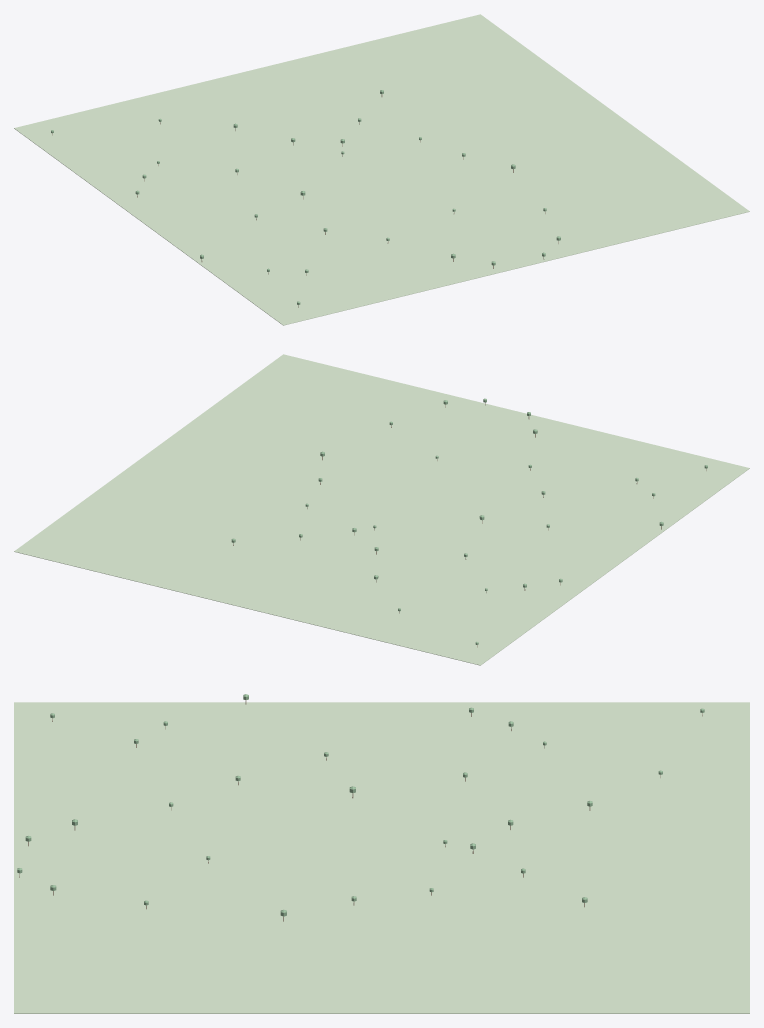
File: chunk_7_6_low.glb
The picture shows the model from 3 angles, top to bottom: view 1: azimuth 30°, elevation 25°; view 2: azimuth 150°, elevation 25°; view 3: azimuth 270°, elevation 25°; orthographic projection. The views are drawn at different scales.
Parts seen in each view (by area): view 1: city_grass; view 2: city_grass; view 3: city_grass, city_foliage_dark.
Boxes of the visible parts, box(x1,y1,x2,y2) form: city_grass: box(14, 14, 749, 325); city_grass: box(14, 354, 749, 665); city_grass: box(14, 702, 749, 1013); city_foliage_dark: box(17, 694, 704, 916).
Size of the model in its own units: 512 by 9.54 by 512.
